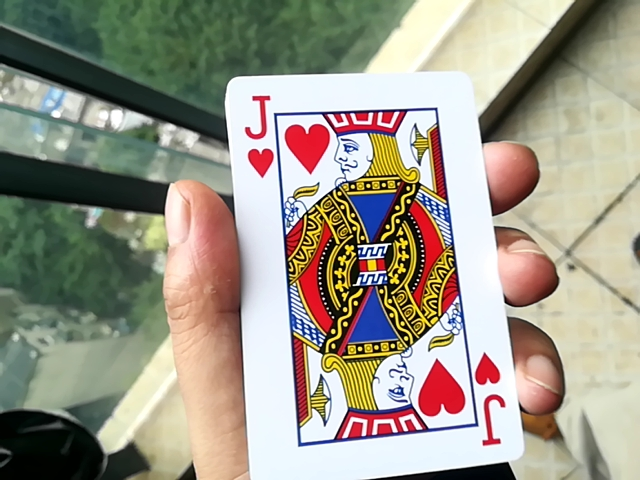hx j: (216, 58, 521, 480)
